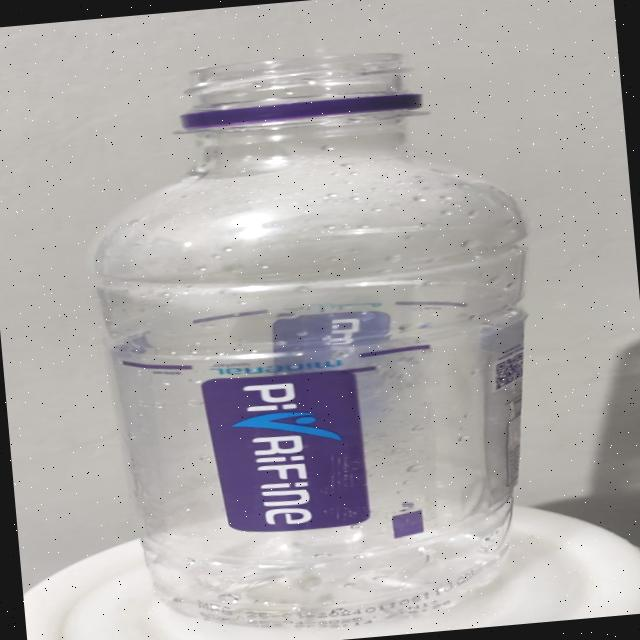bottle: (66, 29, 570, 640)
label: (115, 306, 549, 567)
